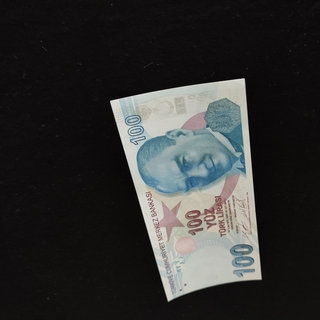100TLFront: (109, 77, 262, 303)
